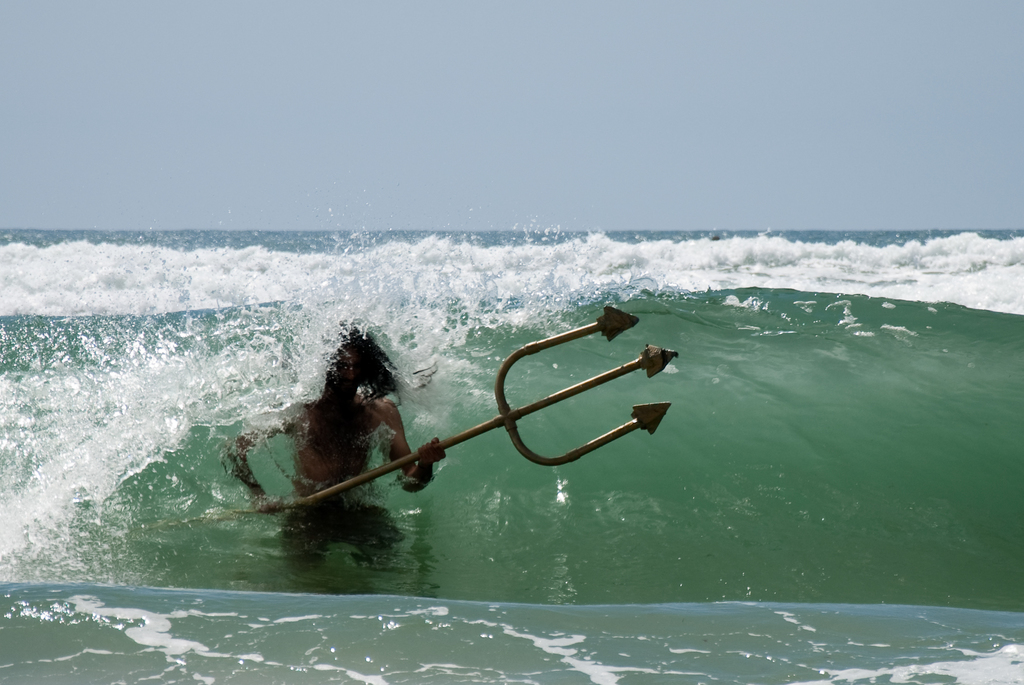person: (216, 330, 447, 512)
